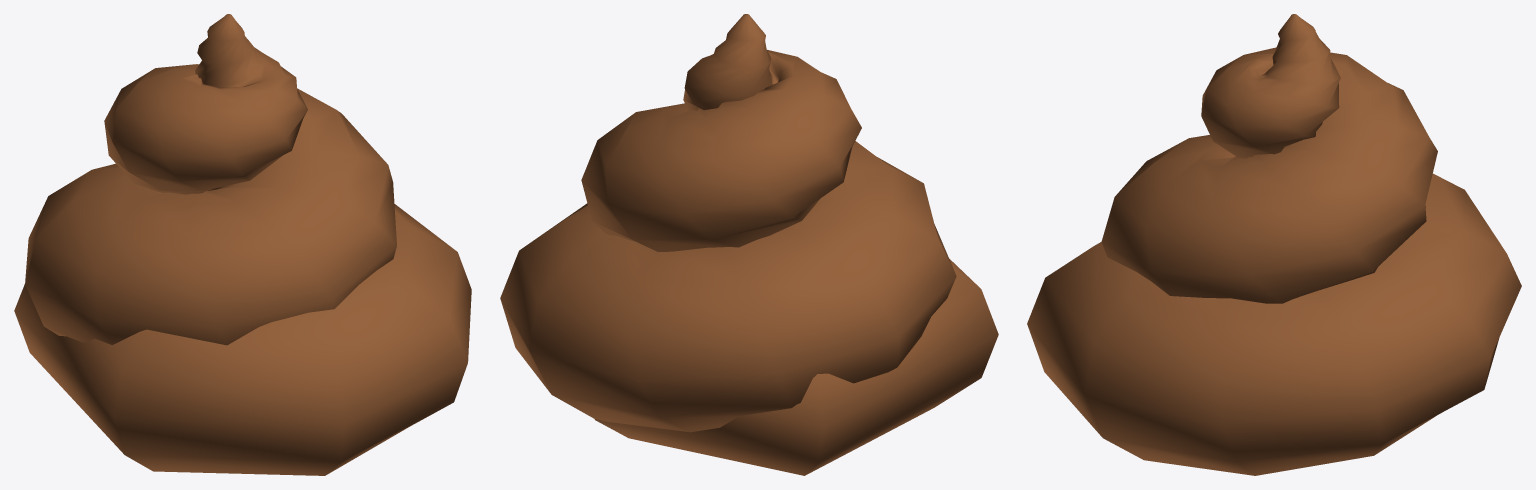
Rendered from poop.glb.
The picture shows the model from 3 angles, left to right: view 1: azimuth 30°, elevation 25°; view 2: azimuth 150°, elevation 25°; view 3: azimuth 270°, elevation 25°; orthographic projection. The views are drawn at different scales.
Parts seen in each view (by area): view 1: Poop_LowPoly; view 2: Poop_LowPoly; view 3: Poop_LowPoly.
Part boxes in pixels (x1,y1,x2,y2): Poop_LowPoly: (14,14,471,475); Poop_LowPoly: (500,14,998,475); Poop_LowPoly: (1027,14,1521,475).
Size of the model in its own units: 0.9477 by 0.9089 by 1.03.
